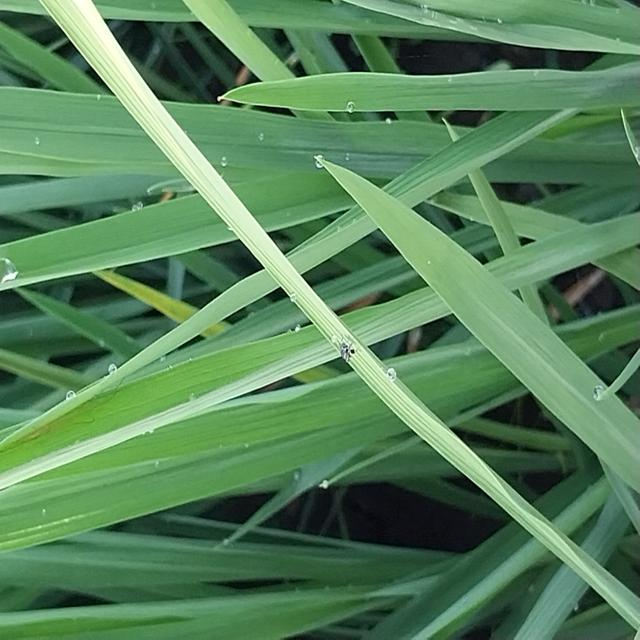healthy: (335, 331, 367, 363)
